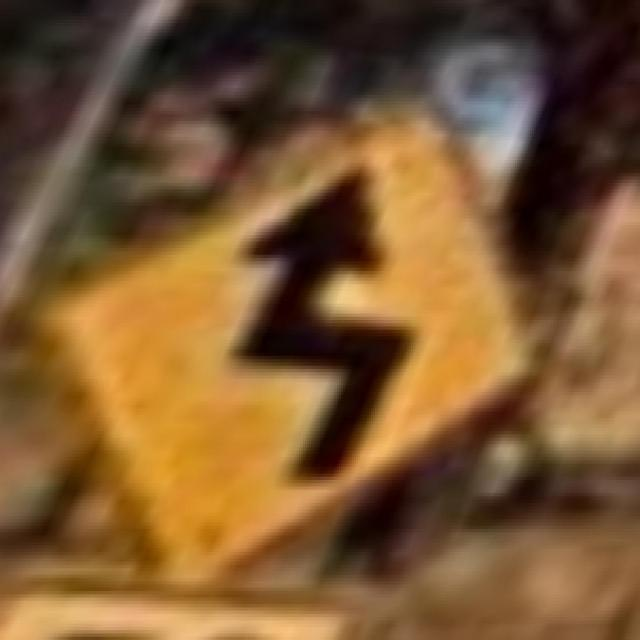Tikungan Ganda Pertama Ke Kiri: (58, 78, 524, 601)
